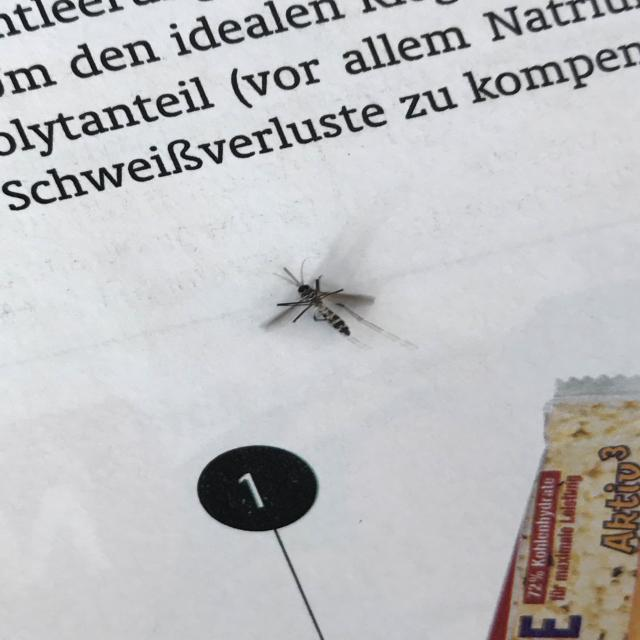albopictus: (261, 253, 403, 348)
